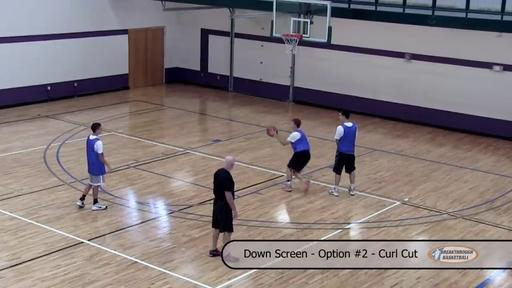ball: (264, 126, 280, 138)
human: (210, 154, 242, 264), (76, 122, 112, 210), (271, 119, 310, 192), (328, 110, 358, 196)
rim: (280, 33, 302, 54)
